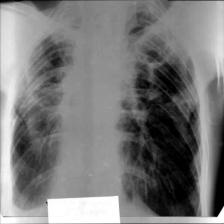tuberculosis: (4, 8, 208, 218)
